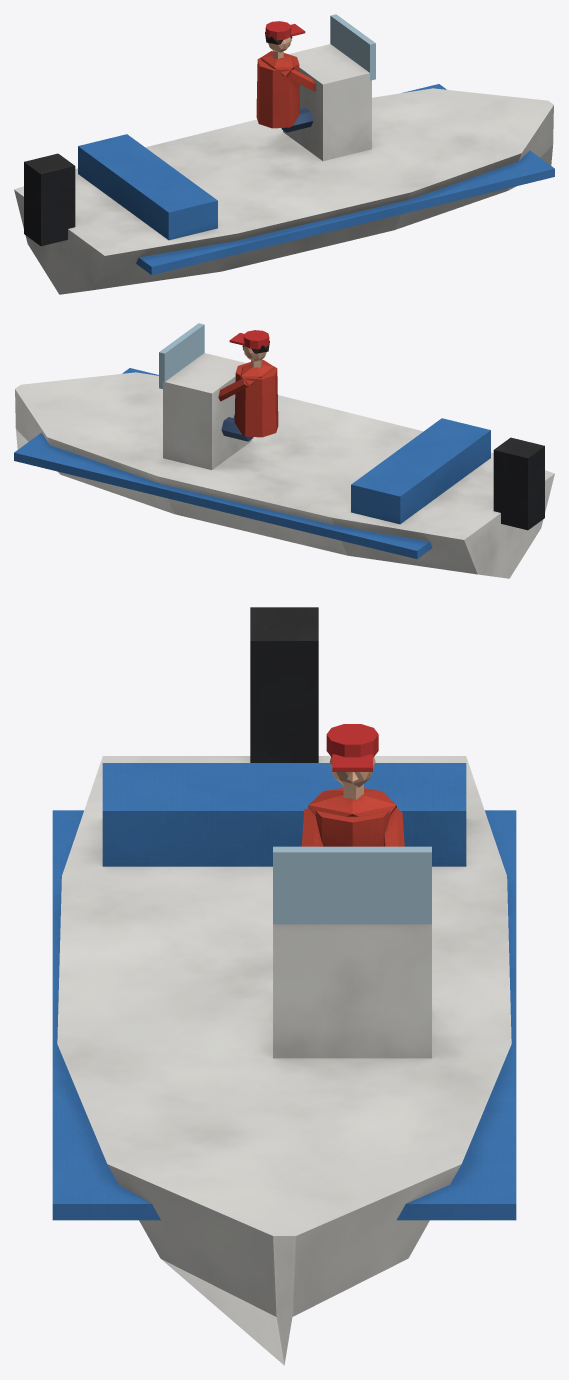
Rendered from motorbat_tex.glb.
3 renders of one model, top to bottom at view 1: azimuth 30°, elevation 25°; view 2: azimuth 150°, elevation 25°; view 3: azimuth 270°, elevation 25°, orthographic. The views are drawn at different scales.
Visible parts, largest first — view 1: motorbat; view 2: motorbat; view 3: motorbat.
Part boxes in pixels (x1,y1,x2,y2): motorbat: [14, 14, 554, 294]; motorbat: [14, 323, 554, 578]; motorbat: [52, 607, 516, 1365].
Size of the model in its own units: 5.27 by 2.03 by 2.04.
Materials: 10 (6 with a texture image).
